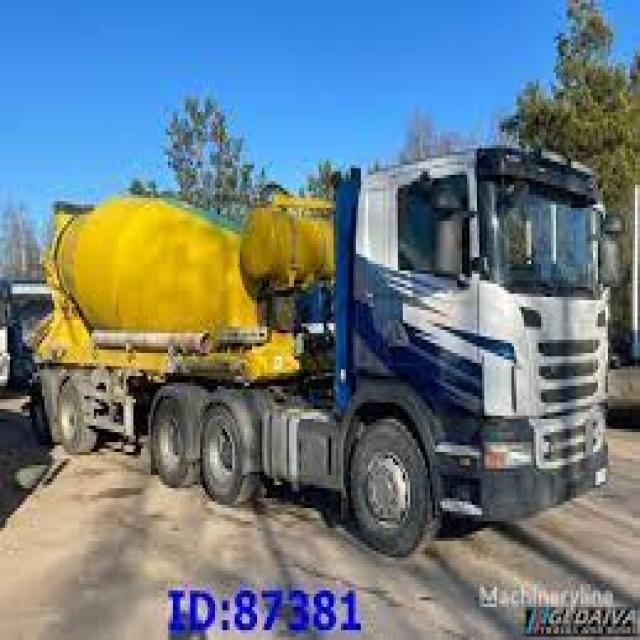Mixer Truck: (26, 140, 615, 559)
